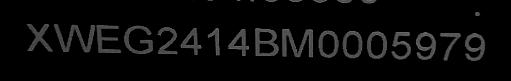letter: (53, 21, 95, 52), (18, 19, 53, 52), (279, 26, 314, 57), (123, 23, 154, 54), (253, 26, 280, 57), (155, 23, 180, 56), (97, 22, 123, 53), (227, 26, 253, 57), (315, 27, 340, 58), (364, 28, 388, 59), (413, 30, 437, 61), (464, 31, 488, 62), (181, 25, 204, 56), (341, 28, 364, 59), (390, 29, 413, 60), (440, 30, 463, 61), (205, 25, 225, 56)
